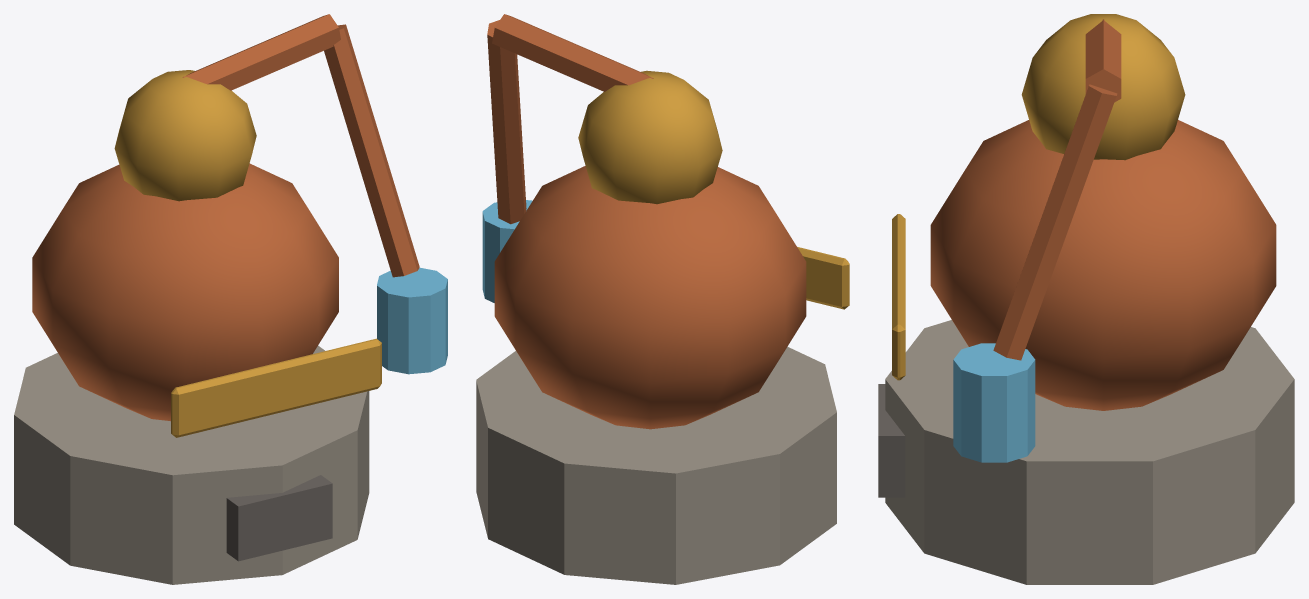
Rendered from PR_Station_Likor_T2.fbx.
3 views of the same model, side by side, from view 1: azimuth 30°, elevation 25°; view 2: azimuth 150°, elevation 25°; view 3: azimuth 270°, elevation 25° (orthographic). The views are drawn at different scales.
Visible parts, largest first — view 1: PR_Station_Likor_T2; view 2: PR_Station_Likor_T2; view 3: PR_Station_Likor_T2.
Part boxes in pixels (x1,y1,x2,y2): PR_Station_Likor_T2: (14,14,447,584); PR_Station_Likor_T2: (476,14,849,584); PR_Station_Likor_T2: (878,14,1294,584).
Bounding box in the file's own units: 0.6824 × 0.8295 × 0.61.
